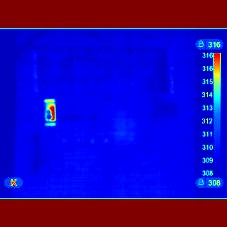Less: (40, 109, 59, 129)
